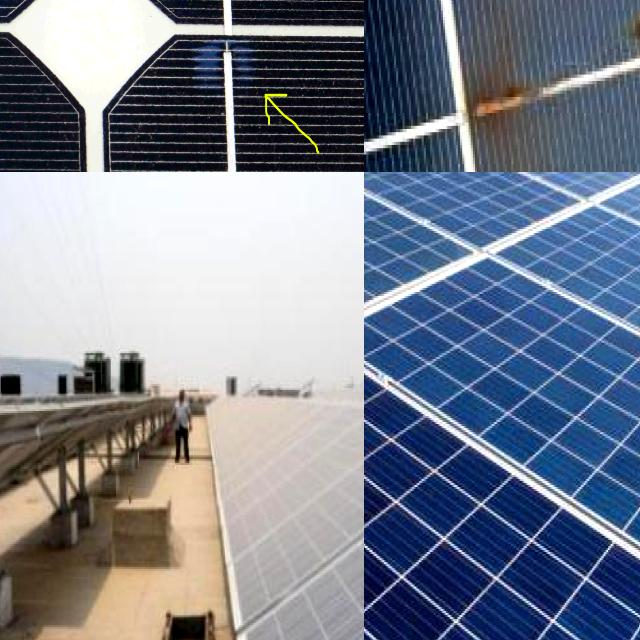crack: (364, 257, 640, 625), (364, 293, 640, 640), (492, 172, 640, 449), (364, 172, 530, 337), (382, 172, 640, 257), (364, 172, 590, 268), (364, 172, 584, 257)
dust: (235, 400, 364, 555)
shadow: (459, 0, 640, 151), (186, 4, 260, 103), (0, 0, 54, 52)
